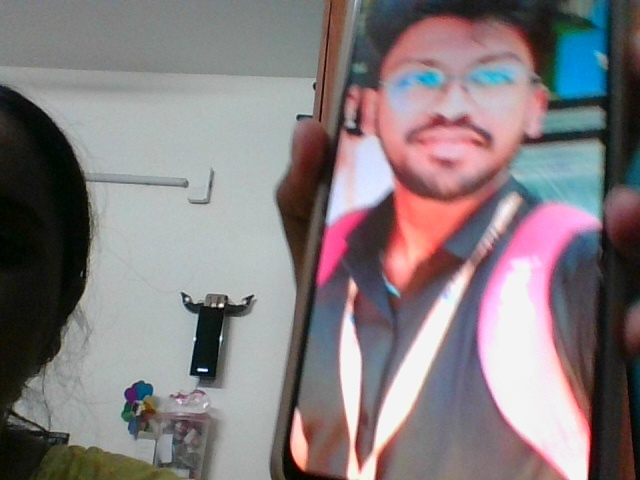fake: (369, 0, 540, 243)
